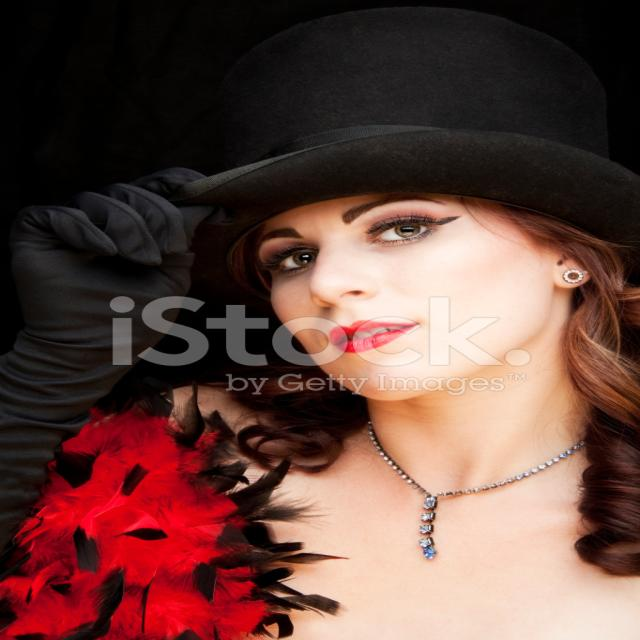hat: (133, 9, 640, 407)
